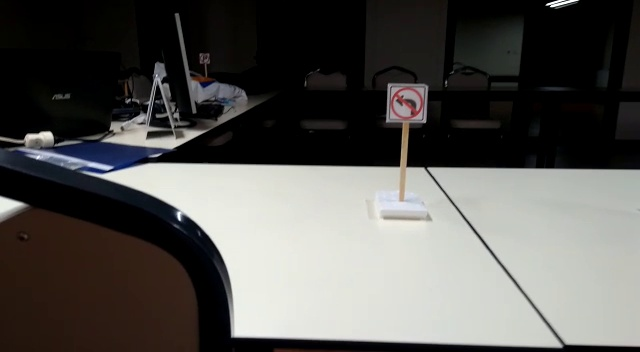sola_donulmez: (386, 85, 428, 121)
